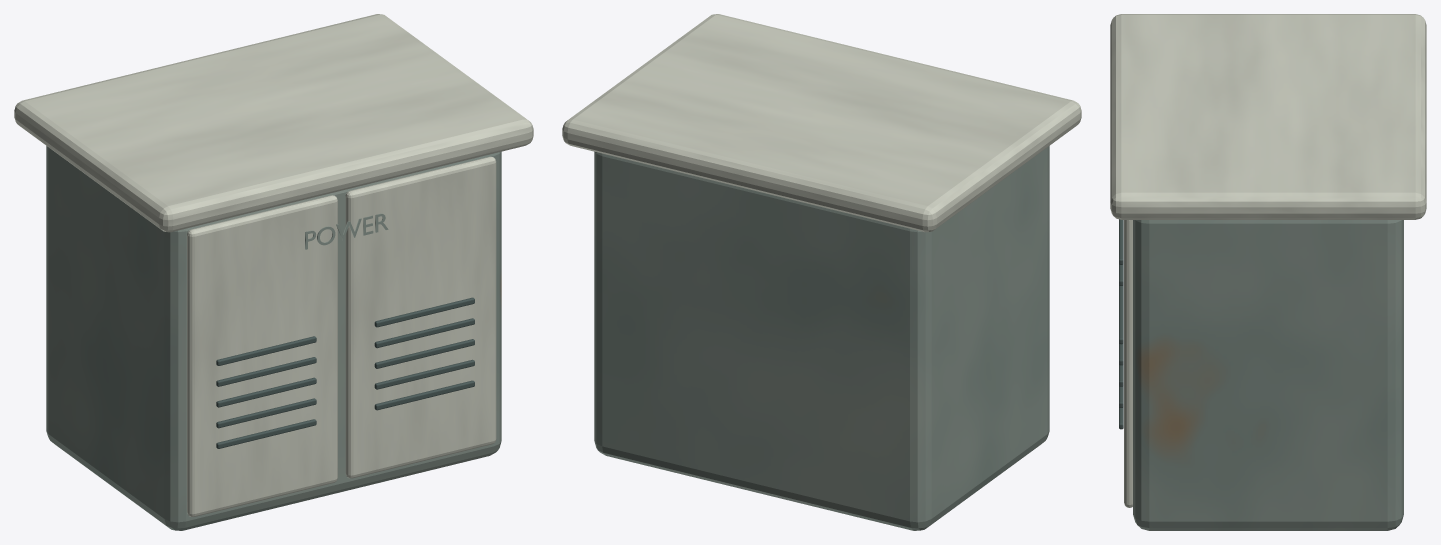
Rendered from Auxiliary_Cabinet.glb.
3 renders of one model, left to right at view 1: azimuth 30°, elevation 25°; view 2: azimuth 150°, elevation 25°; view 3: azimuth 270°, elevation 25°, orthographic. The views are drawn at different scales.
Parts seen in each view (by area): view 1: Auxiliary_Cabinet; view 2: Auxiliary_Cabinet; view 3: Auxiliary_Cabinet.
Part boxes in pixels (left/top/right/bottom): Auxiliary_Cabinet: left=14, top=14, right=533, bottom=530; Auxiliary_Cabinet: left=562, top=14, right=1081, bottom=530; Auxiliary_Cabinet: left=1110, top=14, right=1426, bottom=530.
Bounding box in the file's own units: 2.45 × 2.13 × 1.75.
3 materials, 2 textured.
